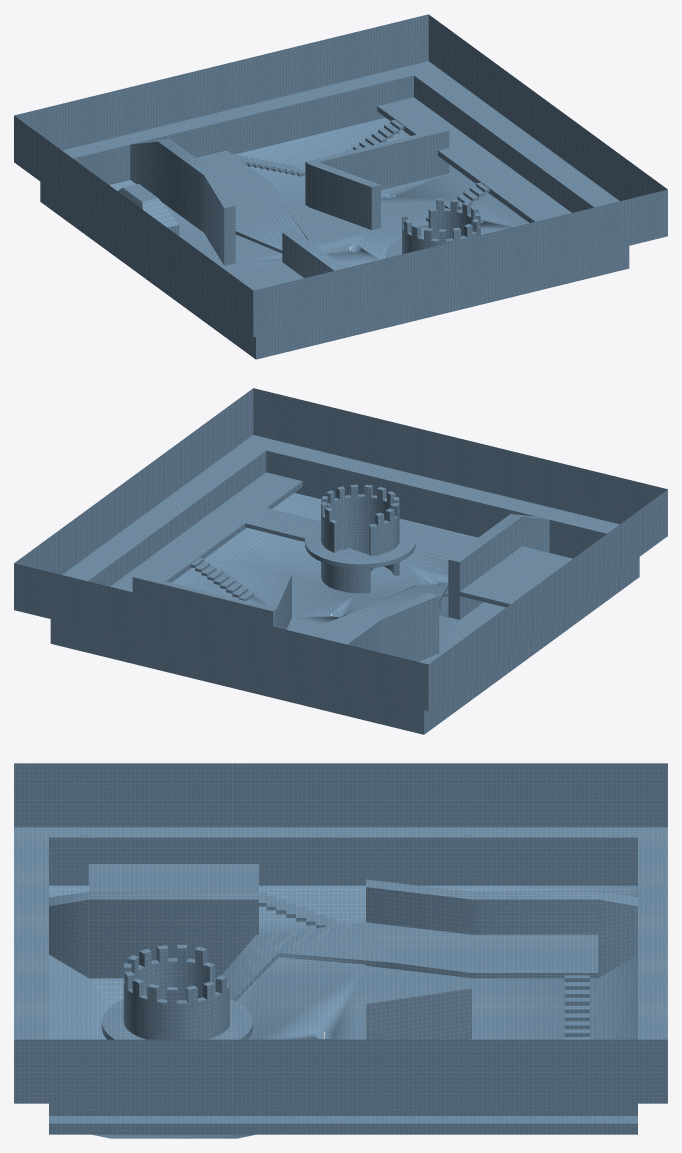
File: collision-world2.glb
3 views of the same model, one above another, from view 1: azimuth 30°, elevation 25°; view 2: azimuth 150°, elevation 25°; view 3: azimuth 270°, elevation 25° (orthographic). The views are drawn at different scales.
Parts seen in each view (by area): view 1: Cube.004; view 2: Cube.004; view 3: Cube.004.
Part boxes in pixels (box(x1,y1,x2,y2)): Cube.004: box(14, 14, 667, 359); Cube.004: box(14, 388, 667, 734); Cube.004: box(14, 763, 667, 1138).
Size of the model in its own units: 34.36 by 9.05 by 34.36.
Materials: 1 (1 with a texture image).
